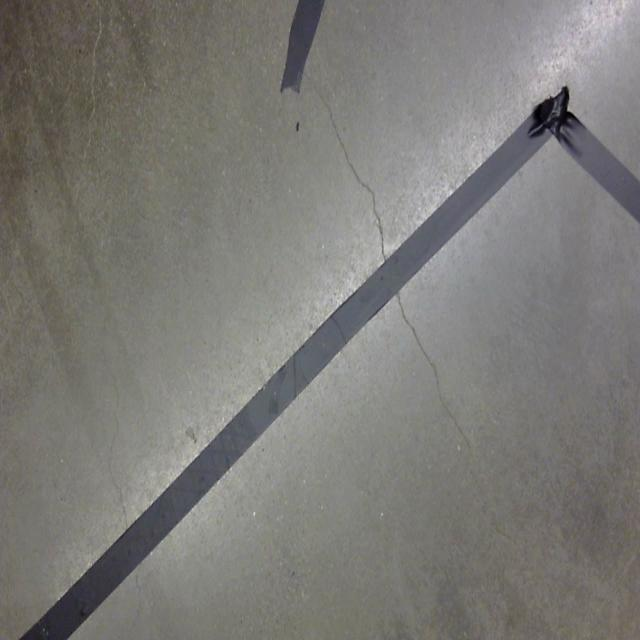tape: (12, 76, 640, 640), (275, 0, 342, 109)
